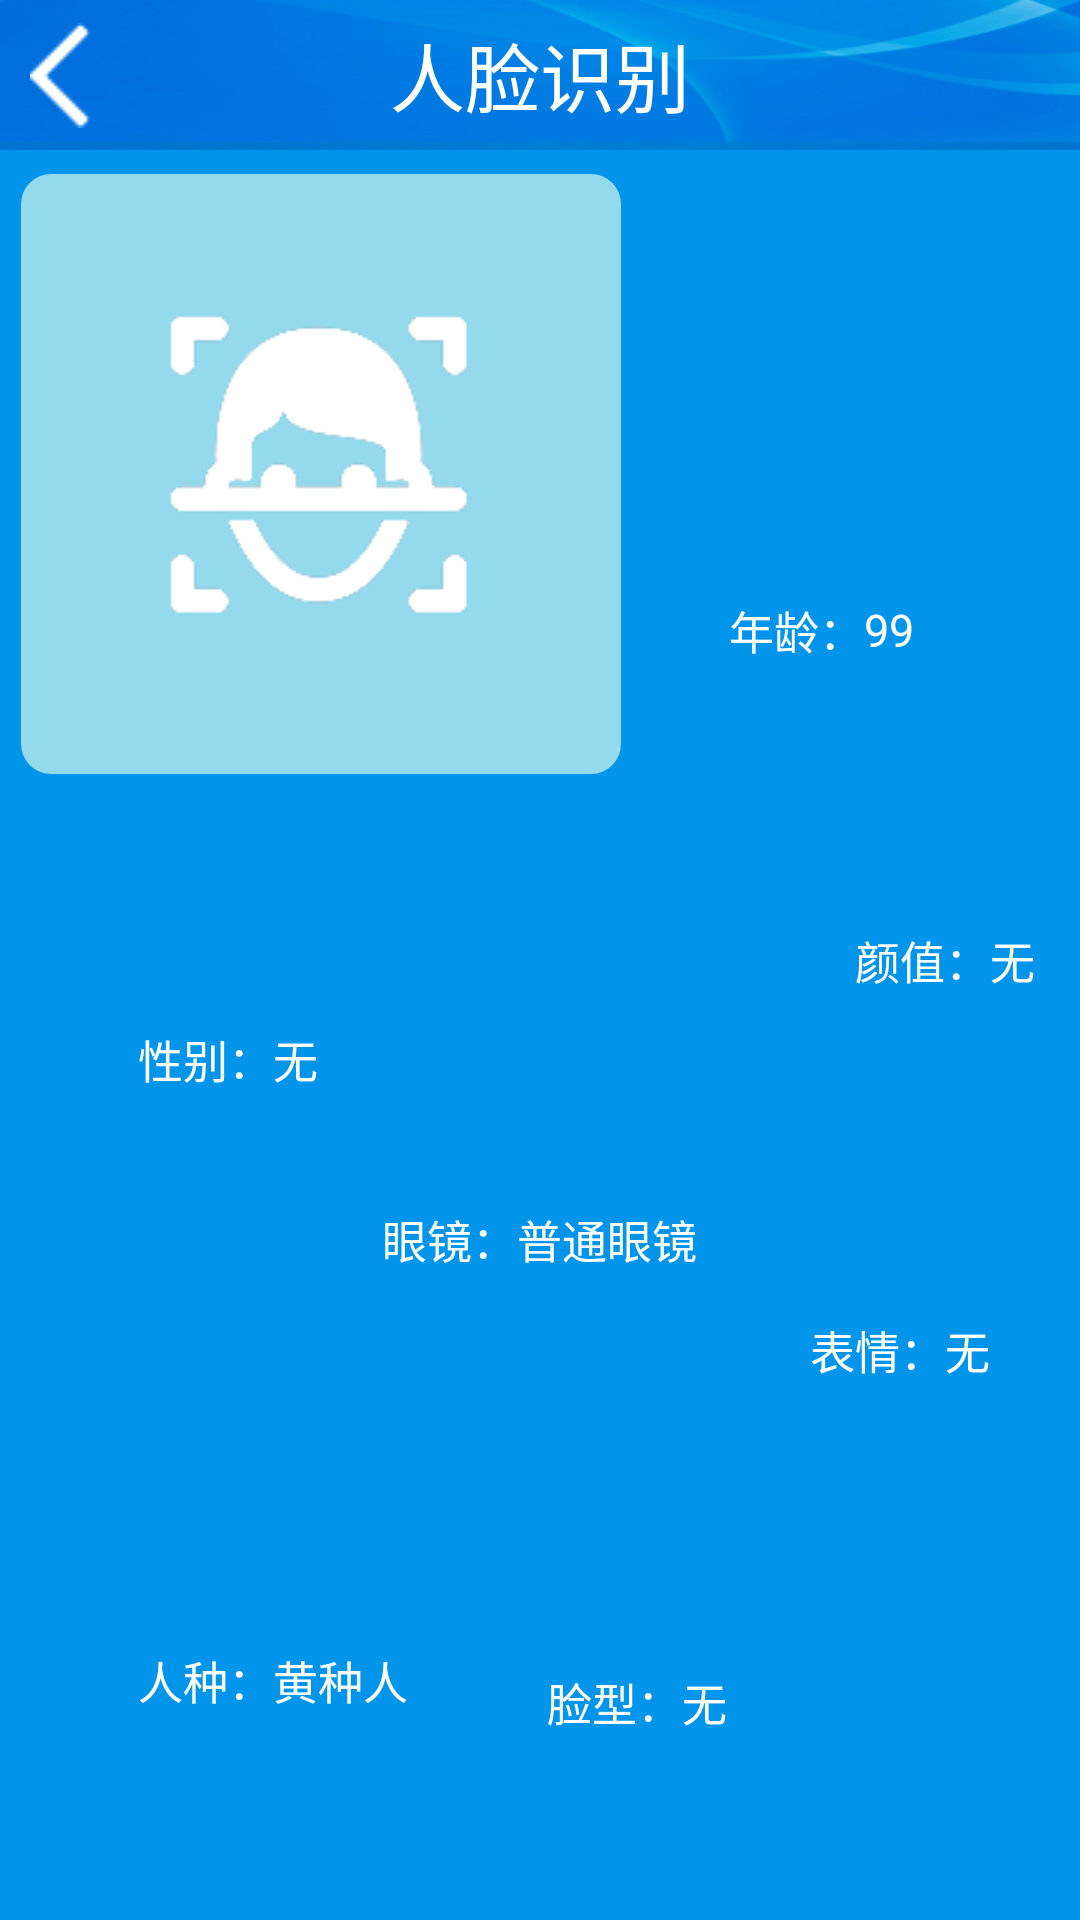

Icon bounding boxes for this 1080x1920 phone screenshot, format (left=x1, top=y1, right=x2, bottom=y2):
bar back: (left=30, top=23, right=90, bottom=128)
